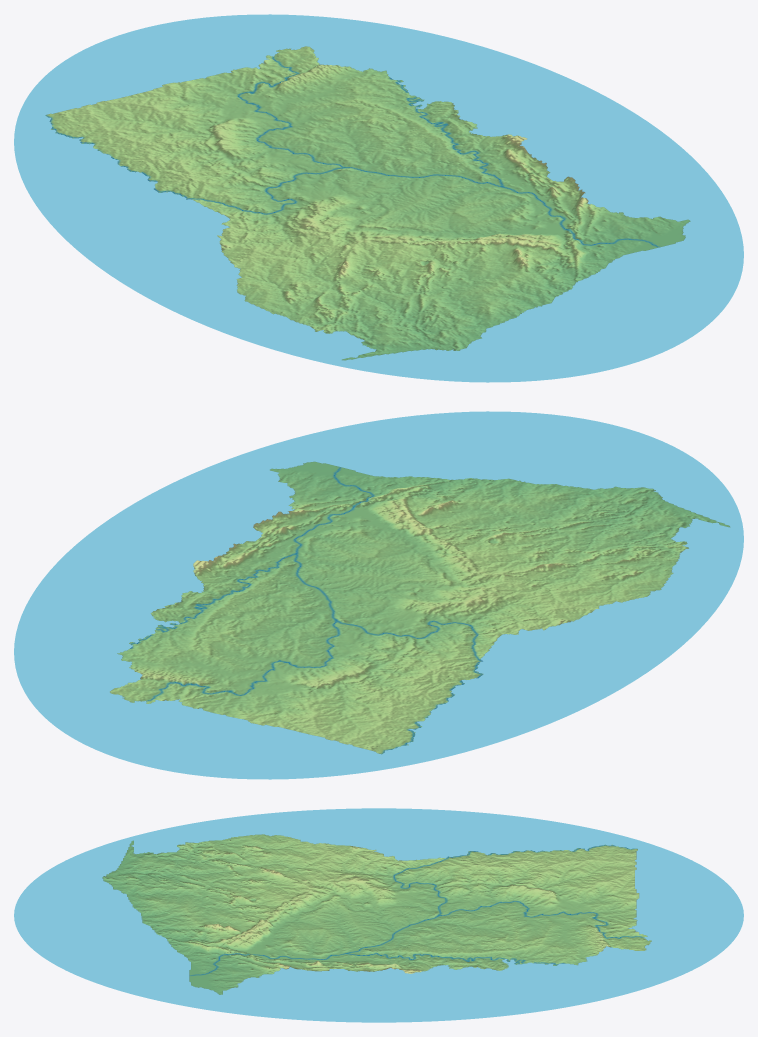
Rendered from GHA-terrain.glb.
3 views of the same model, one above another, from view 1: azimuth 30°, elevation 25°; view 2: azimuth 150°, elevation 25°; view 3: azimuth 270°, elevation 25° (orthographic). The views are drawn at different scales.
Parts seen in each view (by area): view 1: Relevo com hidrografia; view 2: Relevo com hidrografia; view 3: Relevo com hidrografia.
Boxes of the visible parts, x1,y1,x2,y2 form: Relevo com hidrografia: (14, 14, 743, 382); Relevo com hidrografia: (14, 411, 743, 779); Relevo com hidrografia: (14, 808, 743, 1022).
Size of the model in its own units: 1.48 by 0.0244 by 2.13.
2 materials, 1 textured.
